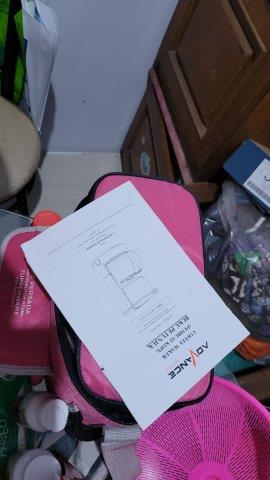kertas: (19, 180, 251, 432)
